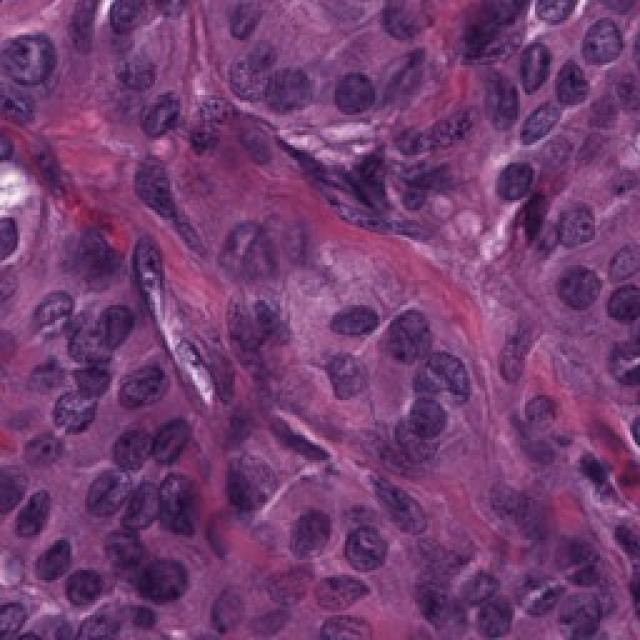abnormal: (210, 203, 291, 302), (368, 299, 439, 385), (0, 6, 66, 95), (328, 510, 406, 583), (425, 341, 487, 431), (549, 260, 614, 341), (103, 353, 177, 422), (329, 49, 392, 129), (37, 381, 114, 446), (262, 43, 319, 130), (147, 465, 206, 545), (141, 539, 202, 615), (101, 408, 163, 477), (474, 66, 528, 142), (83, 453, 135, 531), (503, 31, 561, 98), (89, 295, 154, 353), (512, 370, 566, 434), (142, 405, 191, 475), (512, 85, 564, 147), (545, 191, 594, 252), (580, 12, 629, 70), (546, 55, 593, 108), (318, 283, 366, 333)
